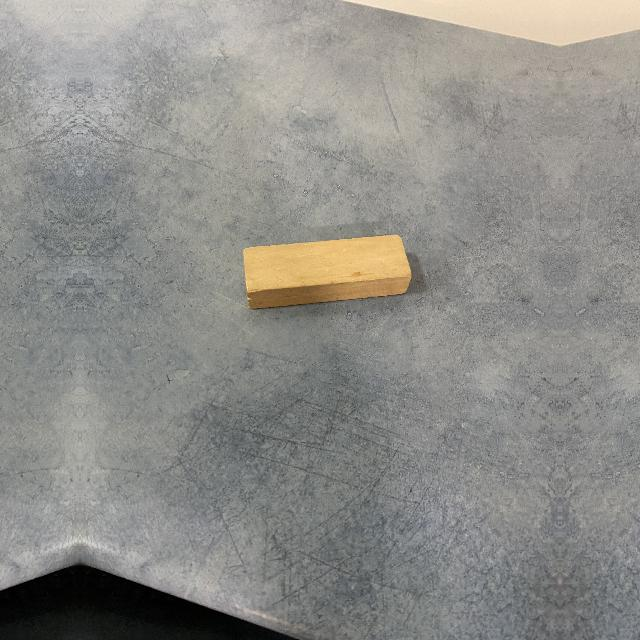jenga: (242, 235, 414, 312)
